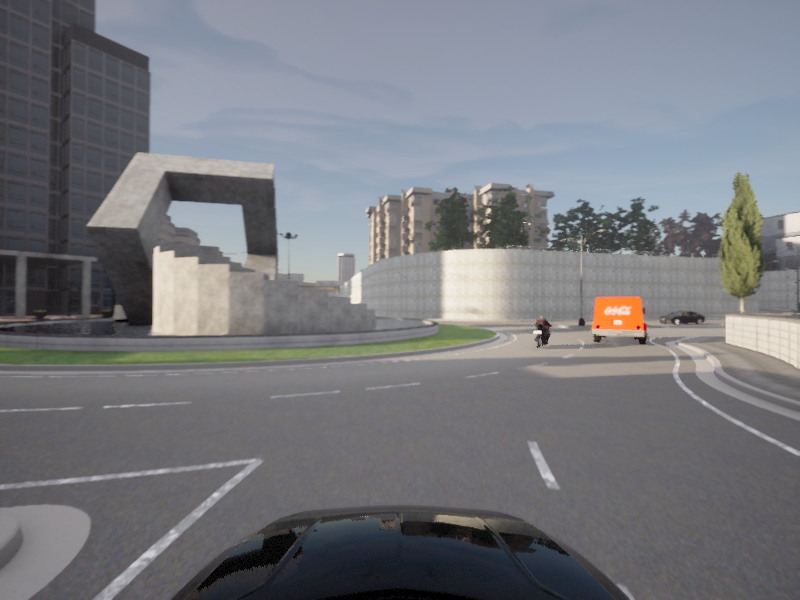vehicle: (589, 295, 648, 345), (527, 315, 555, 349)
